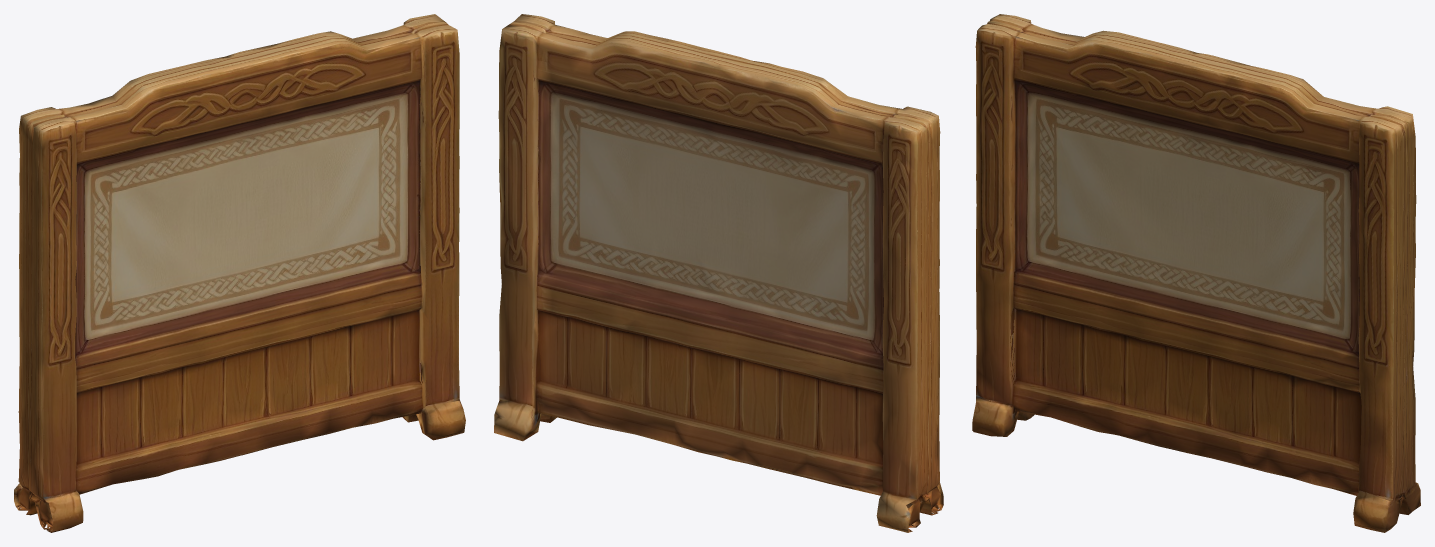
Rendered from SM_Env_Booth.fbx.
3 renders of one model, left to right at view 1: azimuth 30°, elevation 25°; view 2: azimuth 150°, elevation 25°; view 3: azimuth 330°, elevation 25°, orthographic.
Visible parts, largest first — view 1: SM_Env_Booth; view 2: SM_Env_Booth; view 3: SM_Env_Booth.
Part boxes in pixels (<box>): SM_Env_Booth: <box>14,14,465,532</box>; SM_Env_Booth: <box>494,14,943,532</box>; SM_Env_Booth: <box>972,14,1420,532</box>.
Bounding box in the file's own units: 1.6 × 1.5 × 0.25.
